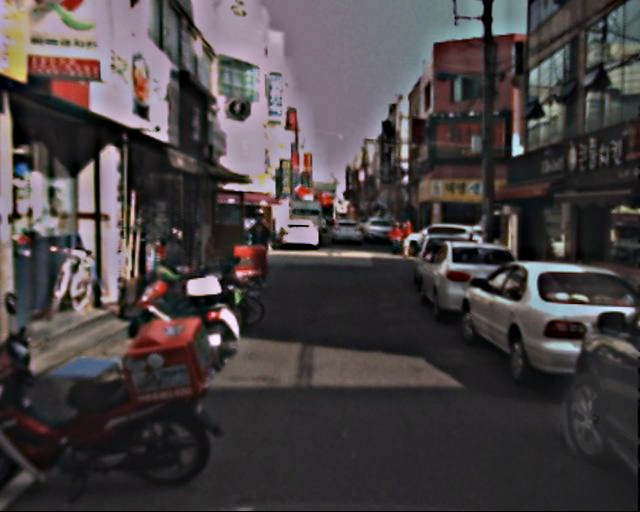person: (246, 213, 278, 291), (402, 219, 418, 257), (390, 220, 405, 256)
